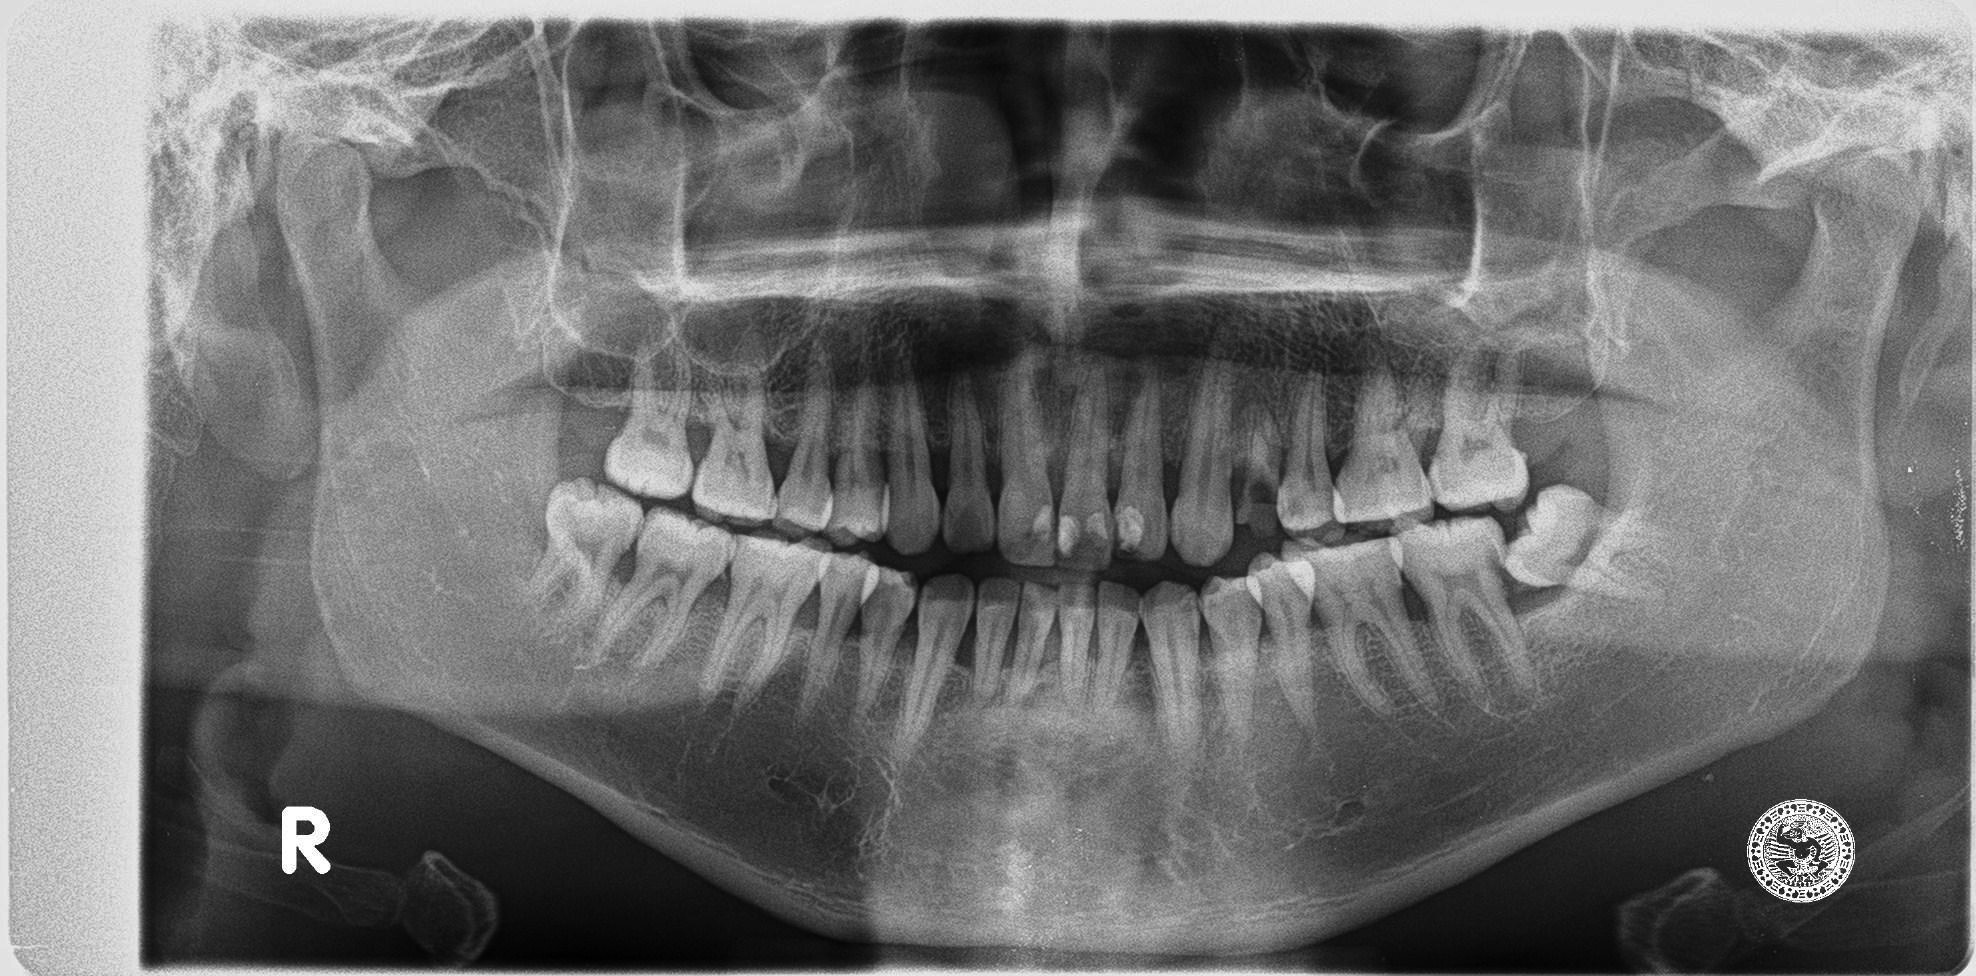Individual Tooth: (1387, 516, 1535, 712), (1282, 536, 1440, 717), (697, 528, 833, 712), (592, 507, 735, 672), (1331, 322, 1432, 535), (1500, 484, 1681, 596), (524, 477, 643, 627), (1427, 342, 1529, 513), (604, 325, 693, 497), (693, 362, 778, 526), (896, 576, 975, 750), (798, 555, 880, 715), (1171, 363, 1235, 565), (999, 351, 1056, 565), (774, 339, 834, 540), (1245, 554, 1314, 728), (1059, 368, 1114, 570), (1198, 578, 1267, 741), (851, 565, 917, 731), (885, 356, 940, 555), (1277, 373, 1340, 543), (825, 383, 888, 546), (1115, 367, 1168, 559), (1142, 581, 1202, 749), (943, 367, 996, 552), (1236, 401, 1282, 536), (1091, 583, 1138, 712), (1007, 583, 1057, 699), (975, 578, 1020, 699), (1059, 575, 1093, 710)
